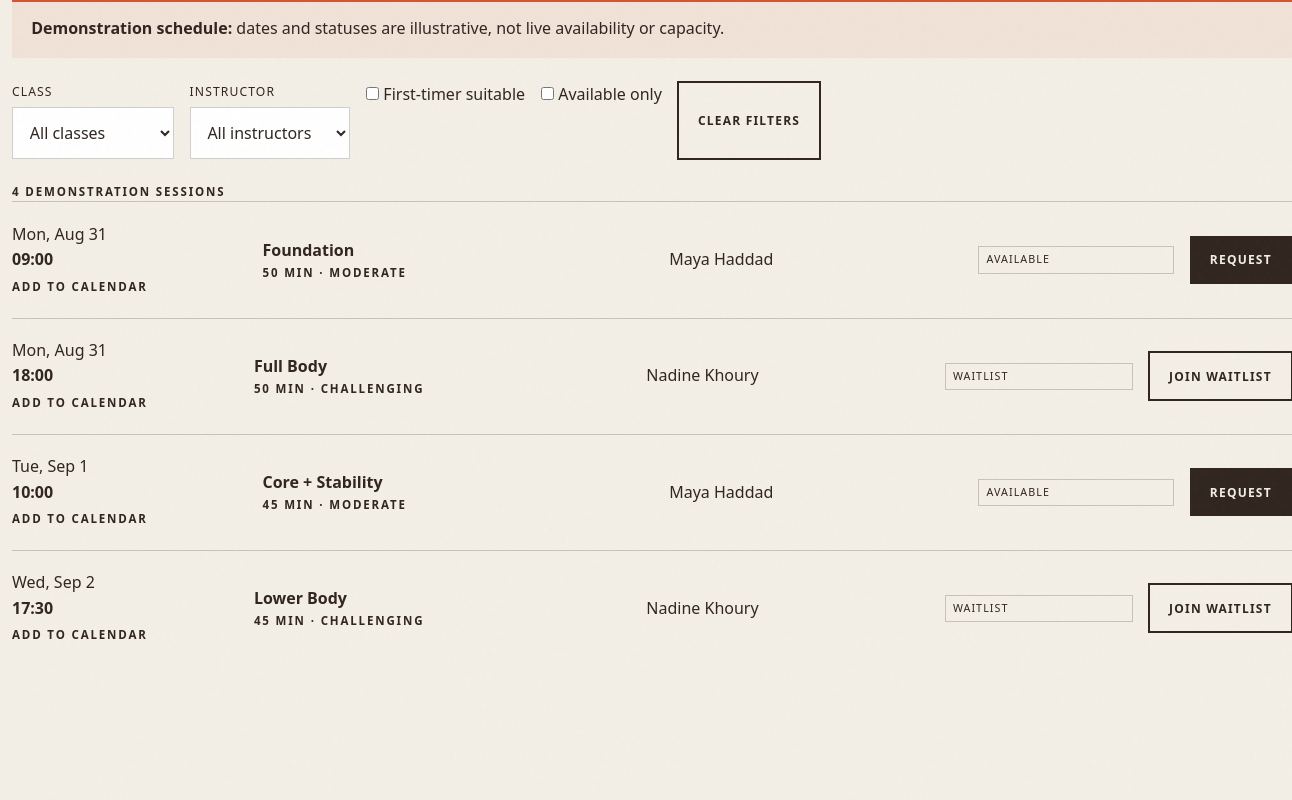
Test case: interactive components › filters schedule for first timers
This screenshot has width=1292, height=800.
Click the checkbox labelled "First-timer suitable" at (373, 93), box x1=366 y1=87 x2=379 y2=100
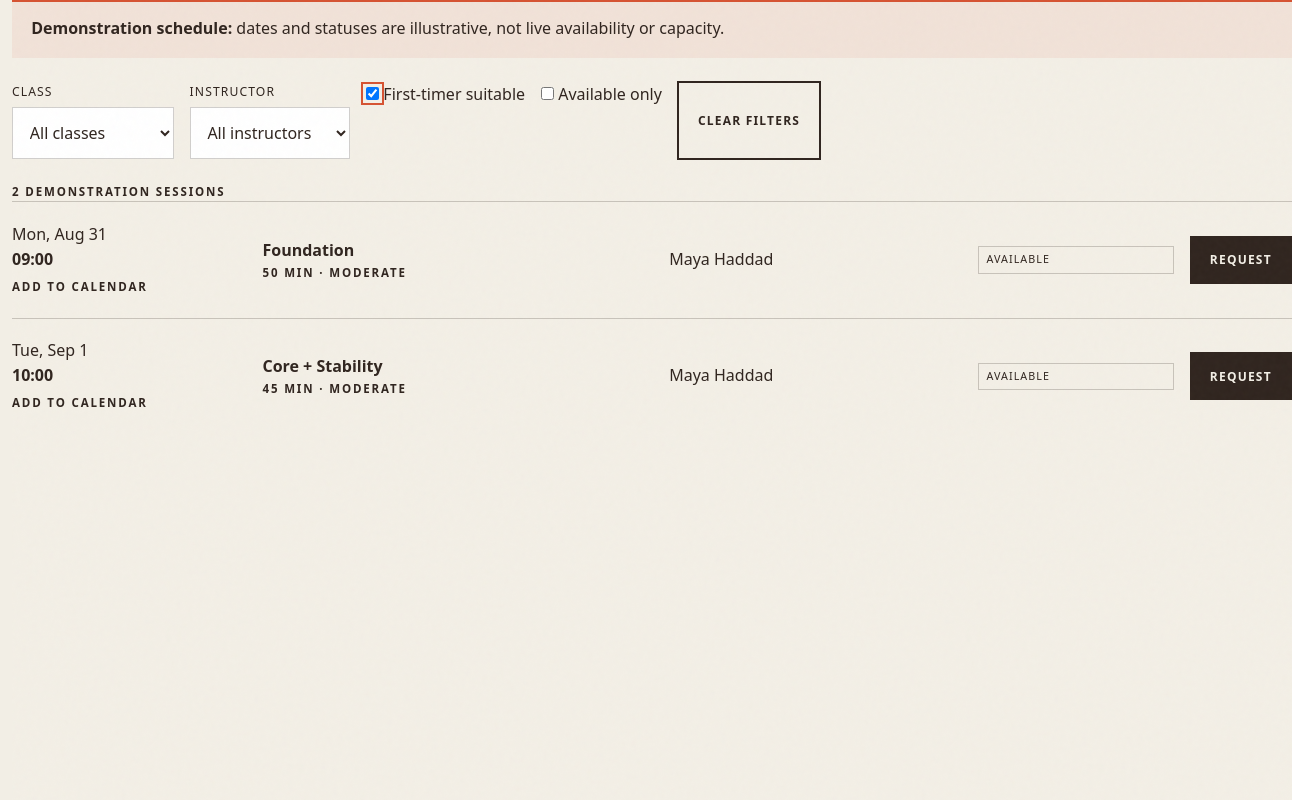
Check: the link "Foundation" is shown, box x1=262 y1=239 x2=354 y2=261
Check: the link "Full Body" is gone
